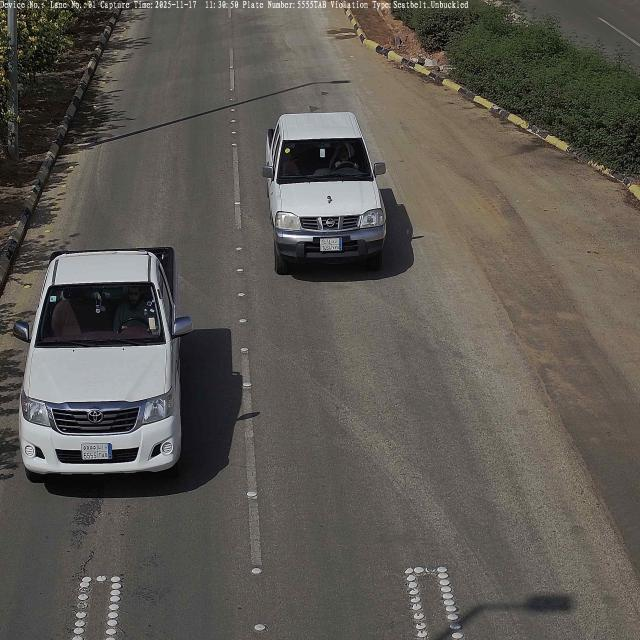person_without_seatbelt: (113, 285, 154, 337)
